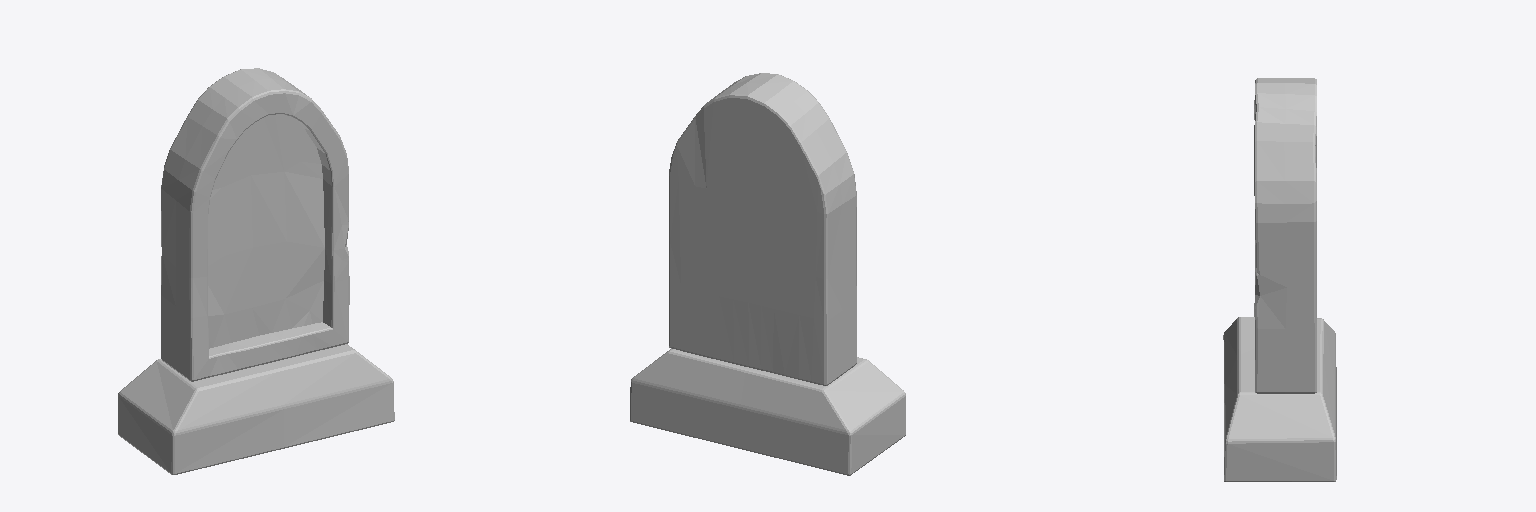
Rendered from Grabstein01_LP.obj.
The picture shows the model from 3 angles: view 1: azimuth 30°, elevation 25°; view 2: azimuth 150°, elevation 25°; view 3: azimuth 270°, elevation 25°; orthographic projection.
Visible parts, largest first — view 1: Grabstein01_LP.001; view 2: Grabstein01_LP.001; view 3: Grabstein01_LP.001.
Part boxes in pixels (x1,y1,x2,y2): Grabstein01_LP.001: (118, 68, 394, 474); Grabstein01_LP.001: (630, 73, 905, 475); Grabstein01_LP.001: (1223, 78, 1336, 481).
Bounding box in the file's own units: 3.05 × 4.54 × 1.34.